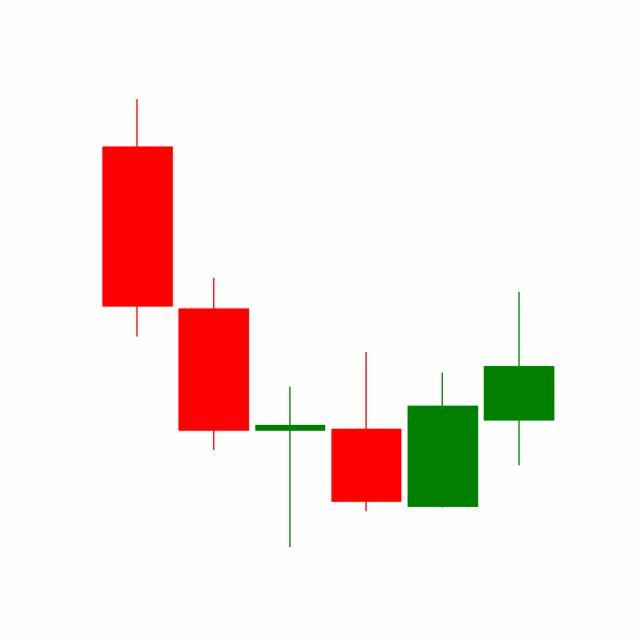Hikkake Pattern: (175, 274, 555, 548)
